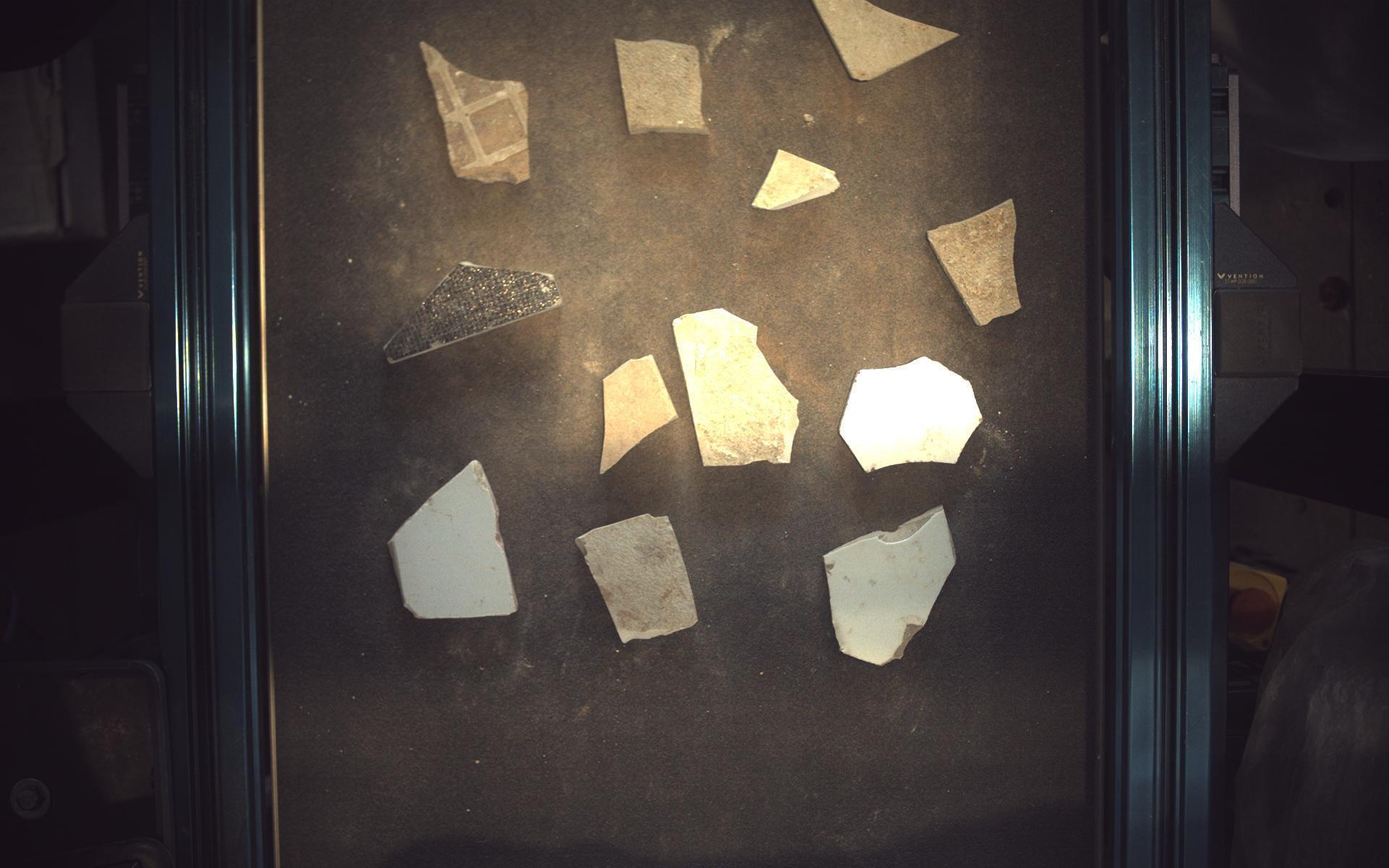tile: (825, 506, 957, 666), (388, 460, 518, 620), (674, 308, 800, 467), (383, 261, 563, 364), (841, 357, 984, 472), (576, 515, 699, 644), (420, 41, 530, 182), (930, 198, 1024, 325), (815, 1, 960, 79), (600, 355, 679, 474), (617, 38, 710, 133), (753, 149, 841, 209)
